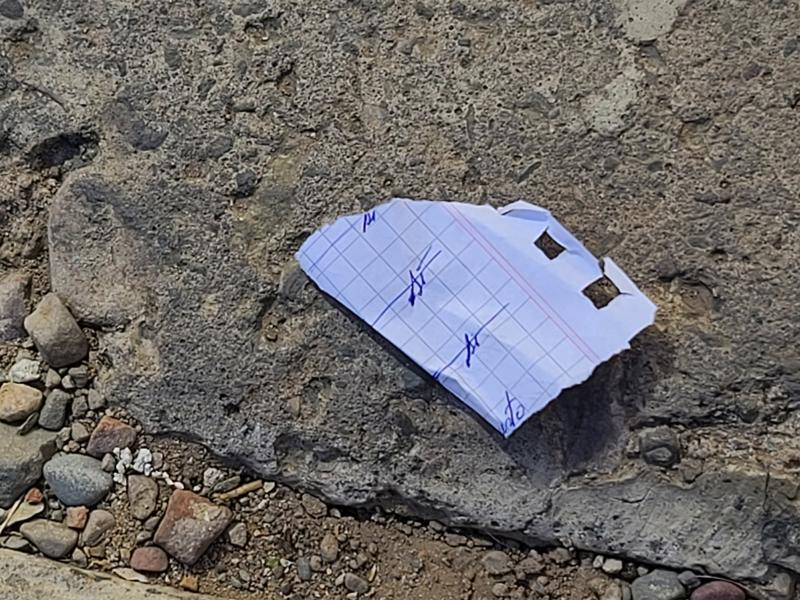papel: (294, 199, 657, 444)
